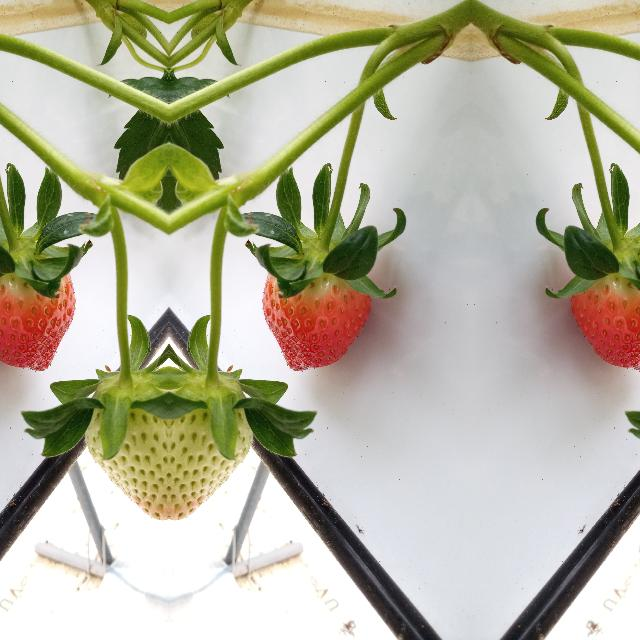Health_100: (260, 272, 370, 372), (0, 272, 76, 372), (570, 272, 640, 372)
Health_50: (173, 350, 245, 530), (91, 350, 163, 530)
